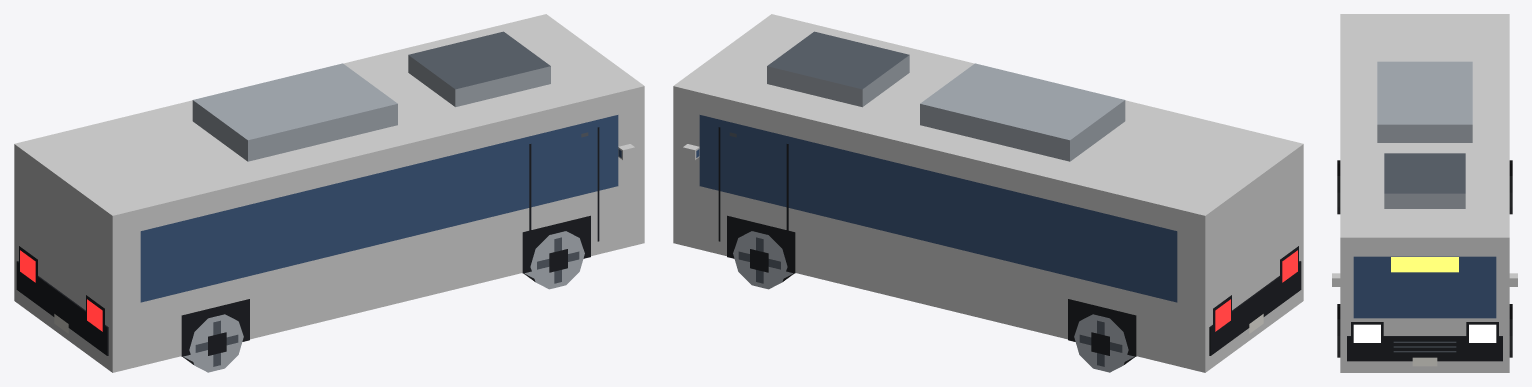
Rendered from bus.glb.
The picture shows the model from 3 angles, left to right: view 1: azimuth 30°, elevation 25°; view 2: azimuth 150°, elevation 25°; view 3: azimuth 270°, elevation 25°; orthographic projection. The views are drawn at different scales.
Parts seen in each view (by area): view 1: bus; view 2: bus; view 3: bus.
Part boxes in pixels (x1,y1,x2,y2): bus: (14,14,644,372); bus: (673,14,1303,372); bus: (1332,14,1517,372).
Size of the model in its own units: 0.7863 by 0.28 by 0.274.
